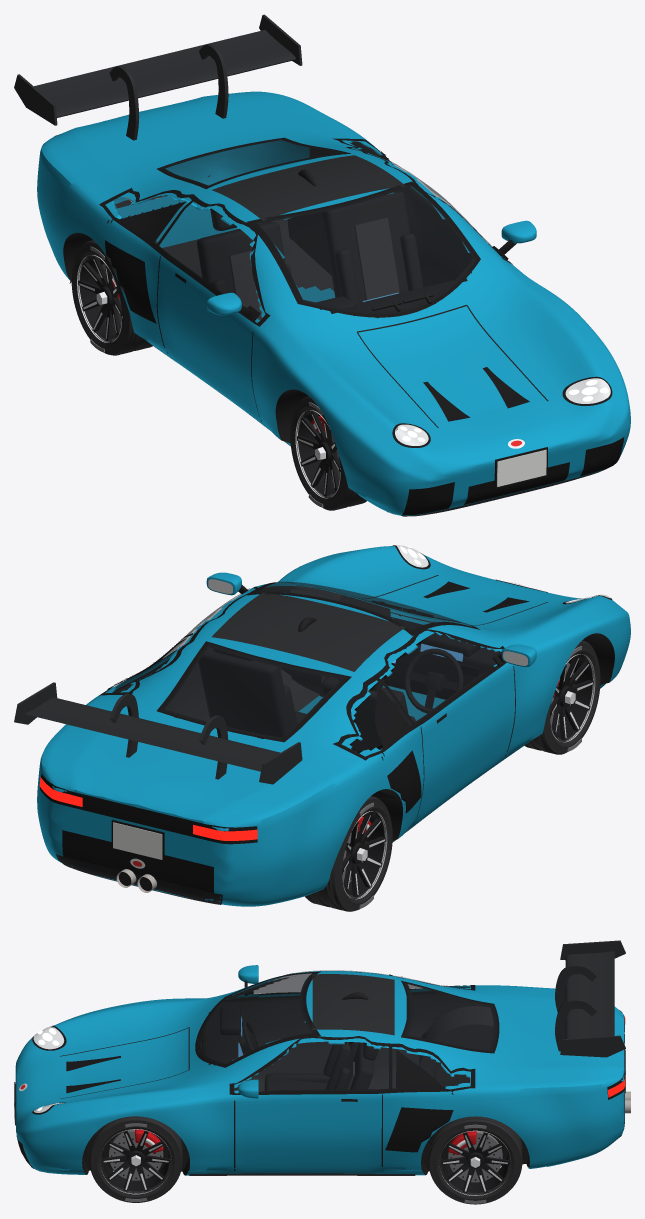
The picture shows the model from 3 angles, top to bottom: view 1: azimuth 30°, elevation 25°; view 2: azimuth 150°, elevation 25°; view 3: azimuth 270°, elevation 25°; orthographic projection. The views are drawn at different scales.
Visible parts, largest first — view 1: Body, Wheel_RR, Wheel_FR; view 2: Body, Wheel_RR, Wheel_FR; view 3: Body, Wheel_RL, Wheel_FL.
Boxes of the visible parts, x1,y1,x2,y2 form: Body: (14, 14, 630, 516); Wheel_RR: (71, 240, 152, 355); Wheel_FR: (290, 396, 366, 510); Body: (14, 545, 630, 906); Wheel_RR: (305, 796, 392, 911); Wheel_FR: (524, 640, 600, 754); Body: (14, 940, 630, 1175); Wheel_RL: (428, 1116, 522, 1204); Wheel_FL: (89, 1116, 182, 1202).
Size of the model in its own units: 2.18 by 1.39 by 4.51.
